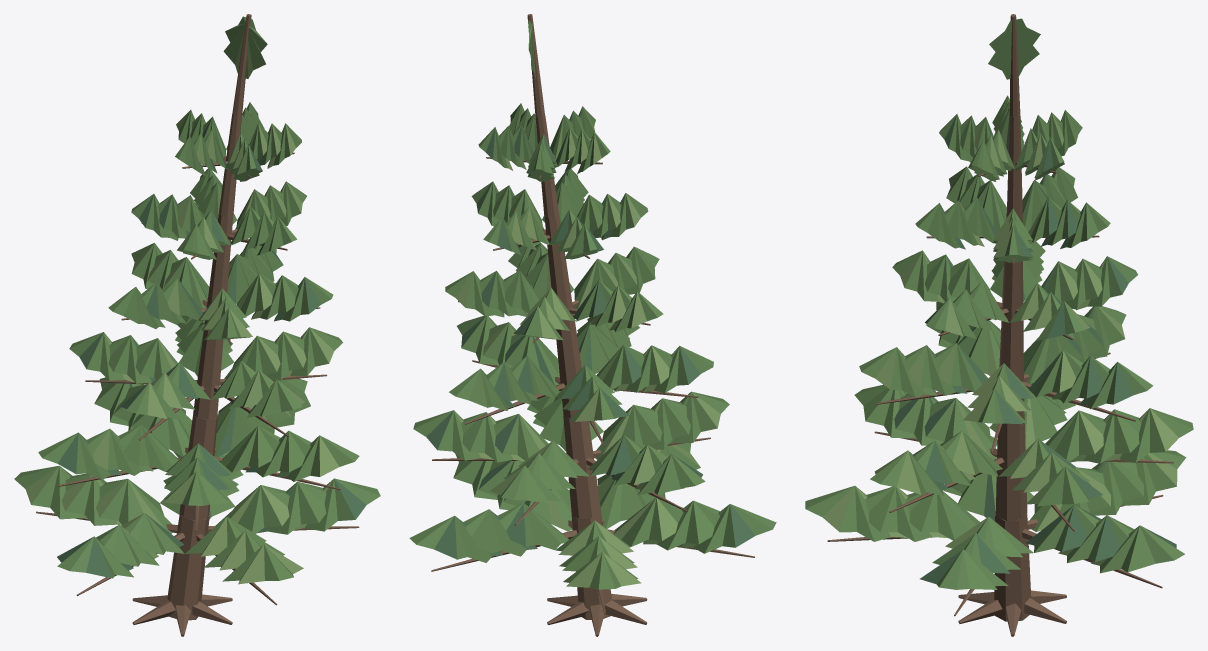
Rendered from PineBranchedB.fbx.
3 views of the same model, side by side, from view 1: azimuth 30°, elevation 25°; view 2: azimuth 150°, elevation 25°; view 3: azimuth 270°, elevation 25° (orthographic). The views are drawn at different scales.
Parts seen in each view (by area): view 1: PineBranchedBVisual; view 2: PineBranchedBVisual; view 3: PineBranchedBVisual.
Part boxes in pixels (x1=…): PineBranchedBVisual: x1=14, y1=14, x2=380, y2=636; PineBranchedBVisual: x1=409, y1=14, x2=776, y2=636; PineBranchedBVisual: x1=805, y1=14, x2=1193, y2=636.
Bounding box in the file's own units: 3.5 × 6.12 × 3.4.
